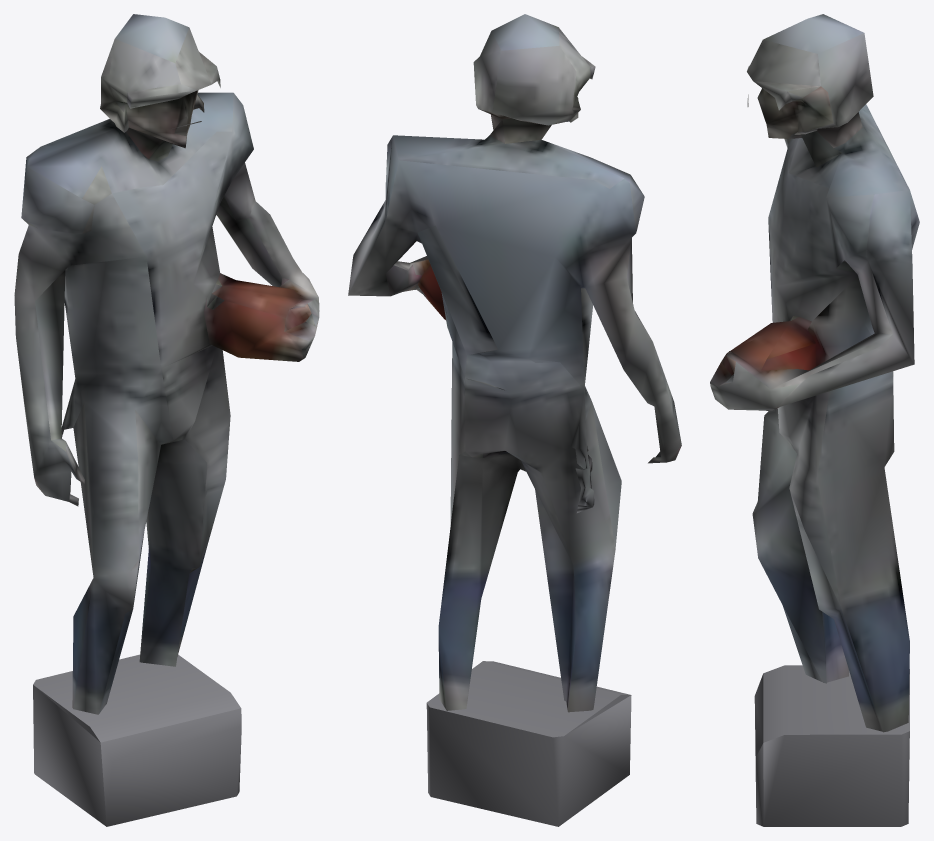
Rendered from futbolista_baja.glb.
3 views of the same model, side by side, from view 1: azimuth 30°, elevation 25°; view 2: azimuth 150°, elevation 25°; view 3: azimuth 270°, elevation 25° (orthographic). The views are drawn at different scales.
Visible parts, largest first — view 1: futbolista_americano_pie; view 2: futbolista_americano_pie; view 3: futbolista_americano_pie.
Boxes of the visible parts, bbox=[...] form: futbolista_americano_pie: bbox=[14, 14, 319, 826]; futbolista_americano_pie: bbox=[348, 14, 681, 826]; futbolista_americano_pie: bbox=[710, 14, 919, 826].
Bounding box in the file's own units: 0.7702 × 1.99 × 0.4841.
2 materials, 1 textured.
